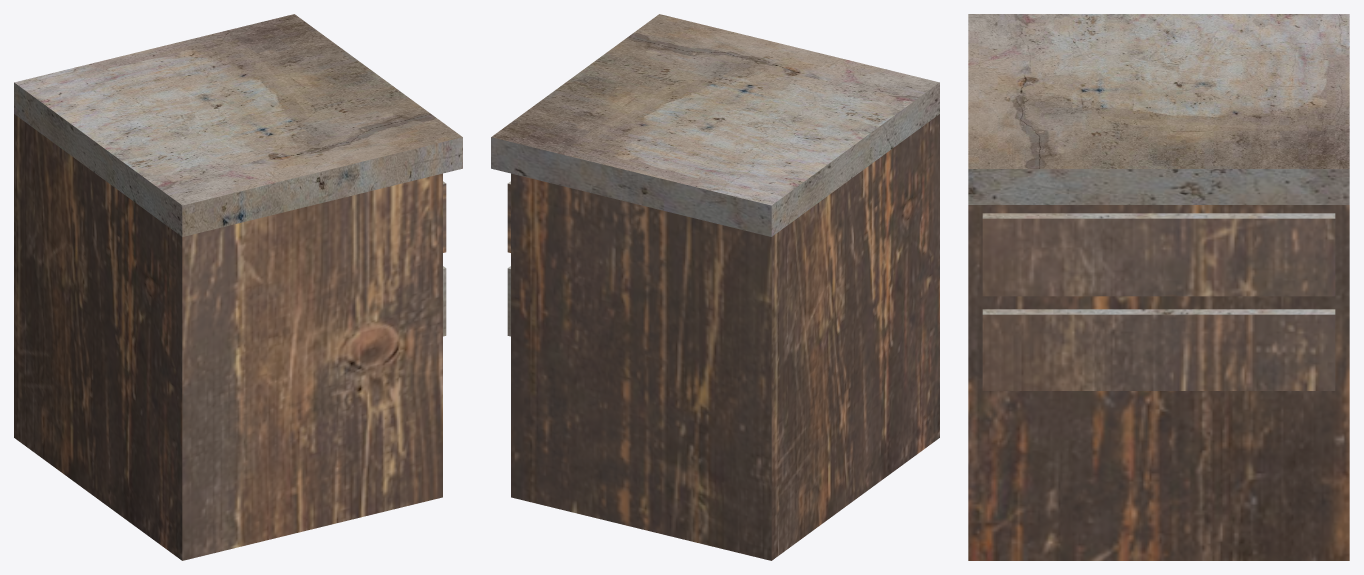
The model's file is mesa2.fbx.
The picture shows the model from 3 angles, left to right: view 1: azimuth 30°, elevation 25°; view 2: azimuth 150°, elevation 25°; view 3: azimuth 270°, elevation 25°; orthographic projection. The views are drawn at different scales.
Parts seen in each view (by area): view 1: Encimera_02; view 2: Encimera_02; view 3: Encimera_02.
Part boxes in pixels (bbox=[...]): Encimera_02: bbox=[14, 14, 462, 560]; Encimera_02: bbox=[491, 14, 939, 560]; Encimera_02: bbox=[968, 14, 1349, 560].
Size of the model in its own units: 142 by 172 by 148.
